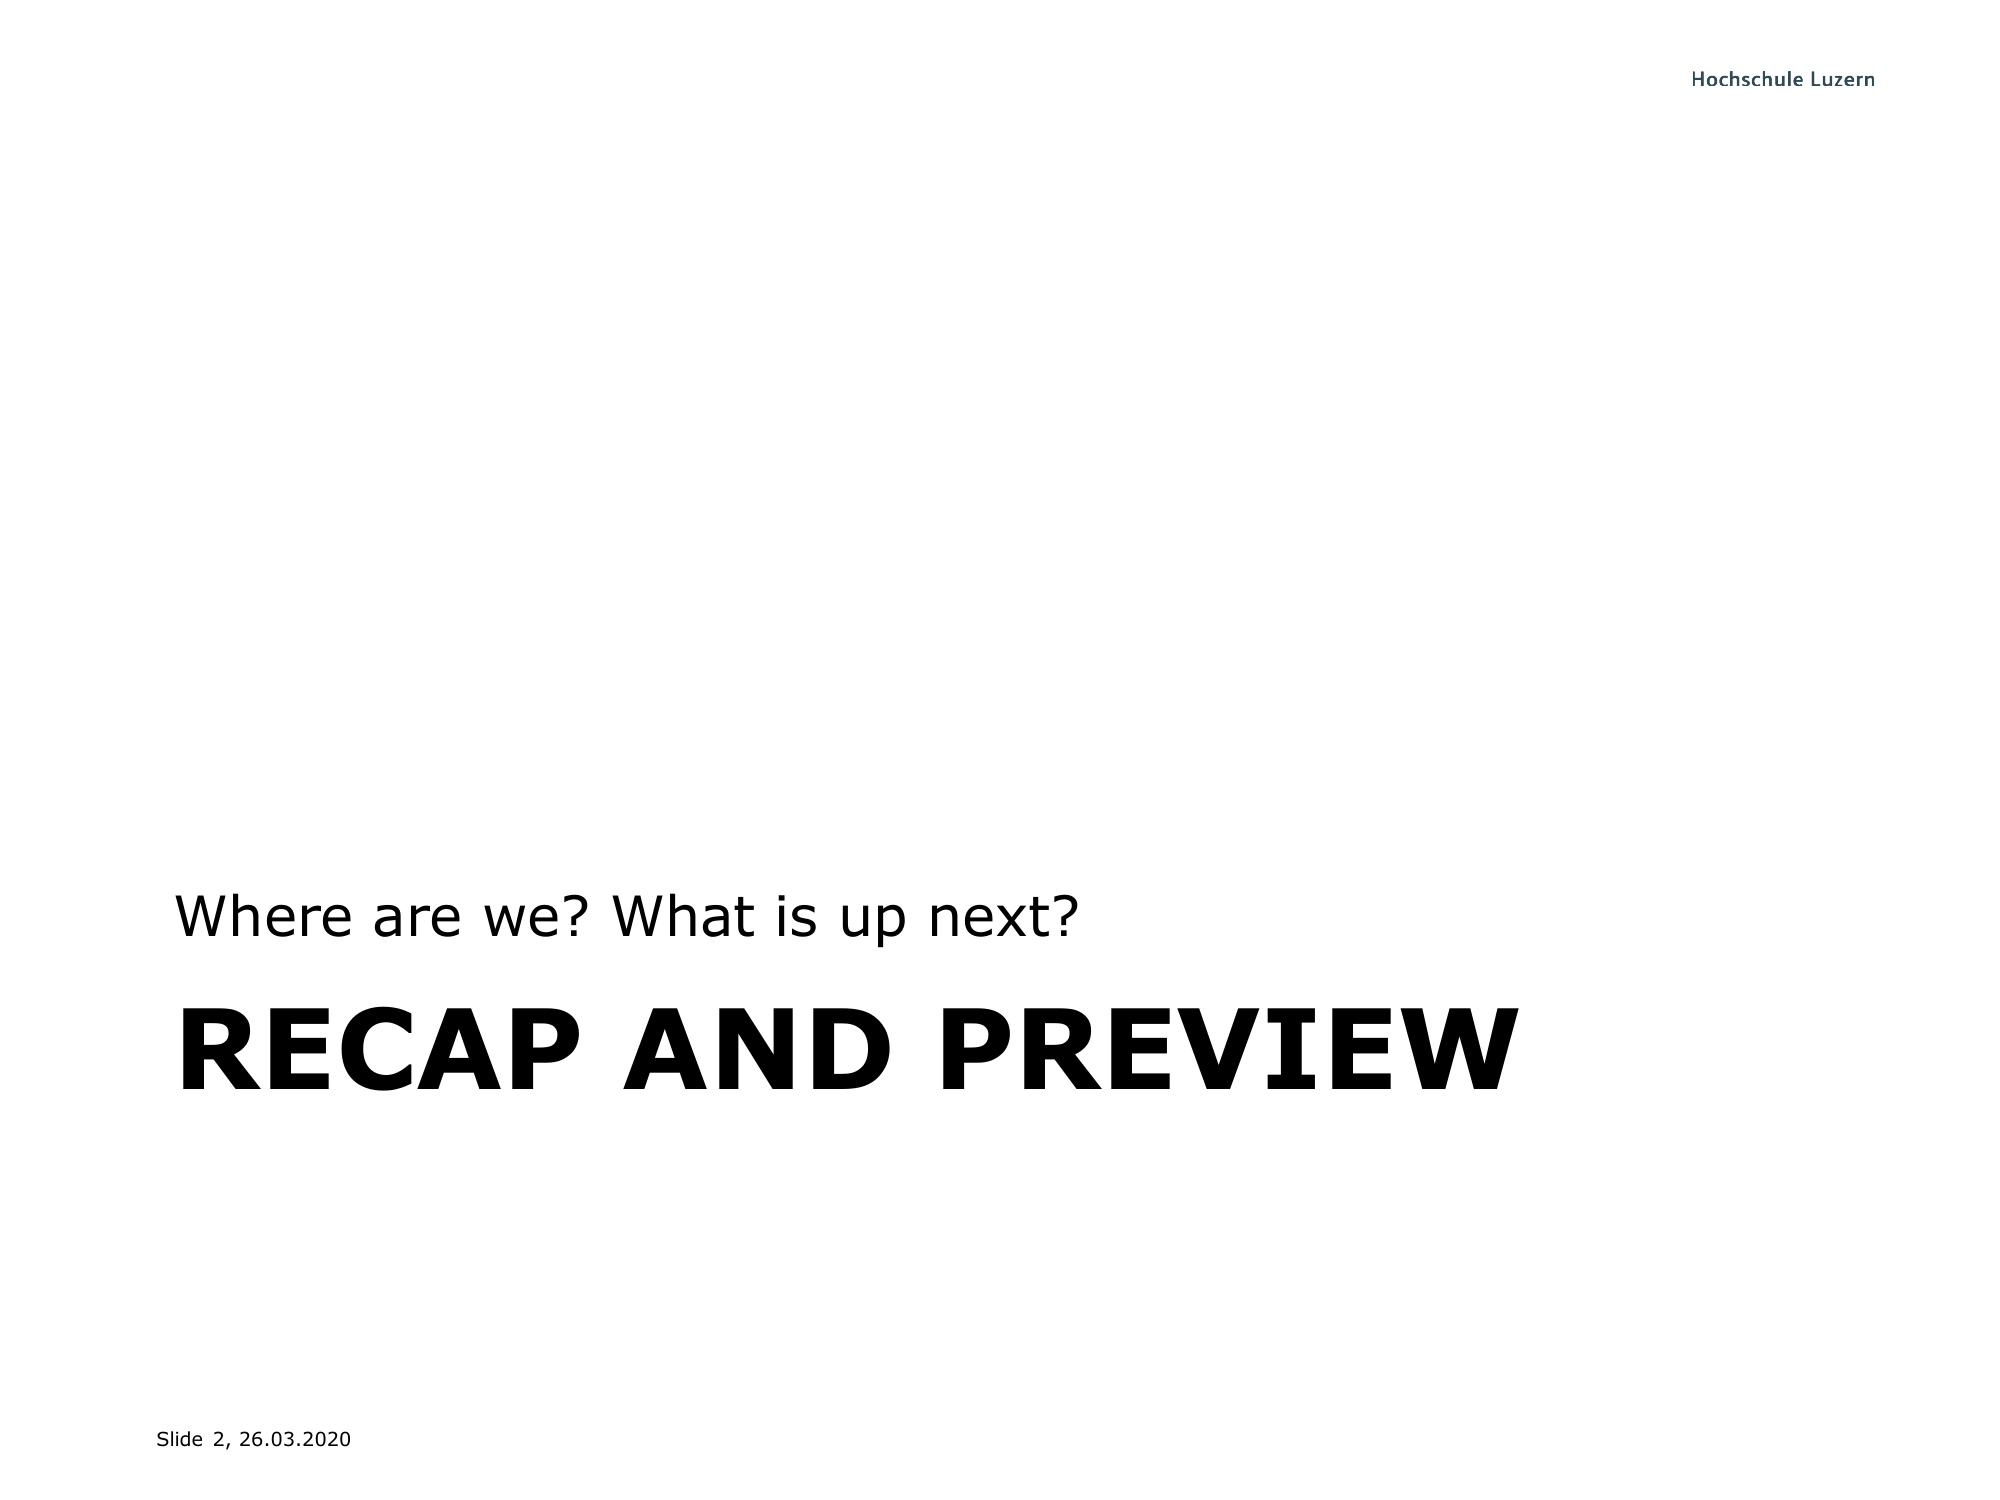Title: (157, 993, 1529, 1123)
